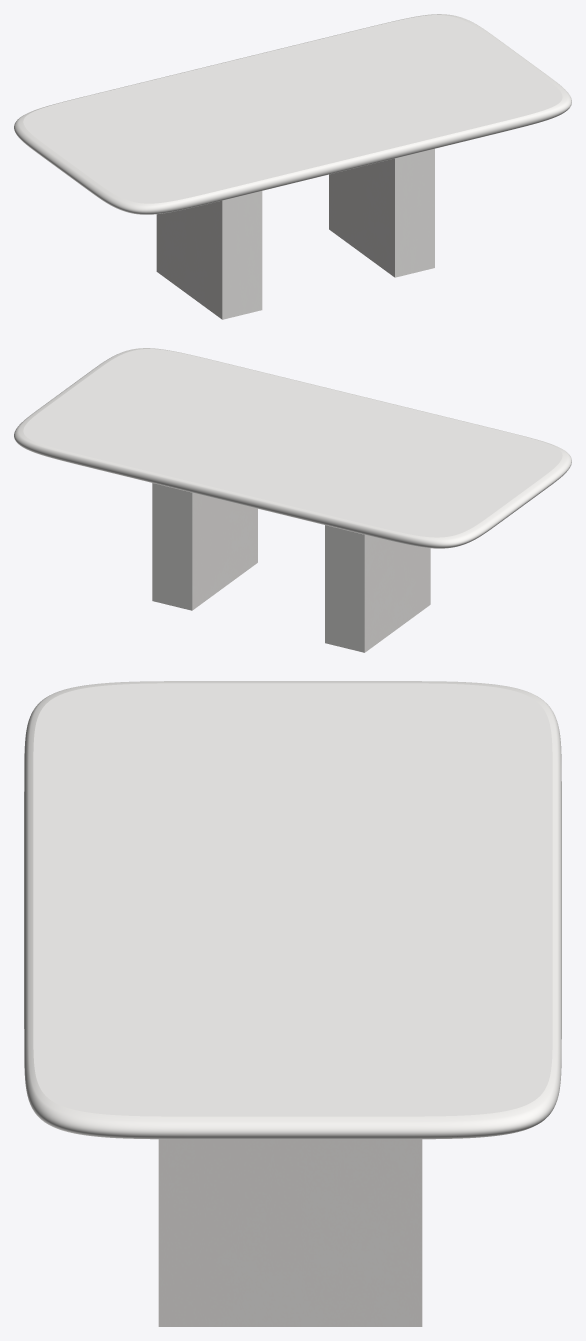
Rendered from purewhite_softrecta_round_ridge.glb.
3 views of the same model, one above another, from view 1: azimuth 30°, elevation 25°; view 2: azimuth 150°, elevation 25°; view 3: azimuth 270°, elevation 25° (orthographic). The views are drawn at different scales.
Parts seen in each view (by area): view 1: round_softrecta, ridge; view 2: round_softrecta, ridge; view 3: round_softrecta, ridge.
Part boxes in pixels (<box>): round_softrecta: <box>14,14,571,214</box>; ridge: <box>156,148,434,319</box>; round_softrecta: <box>14,348,571,548</box>; ridge: <box>152,483,430,652</box>; round_softrecta: <box>24,681,561,1139</box>; ridge: <box>158,1139,422,1326</box>.
Bounding box in the file's own units: 7.5 × 2.5 × 3.8.
1 material, 1 textured.
